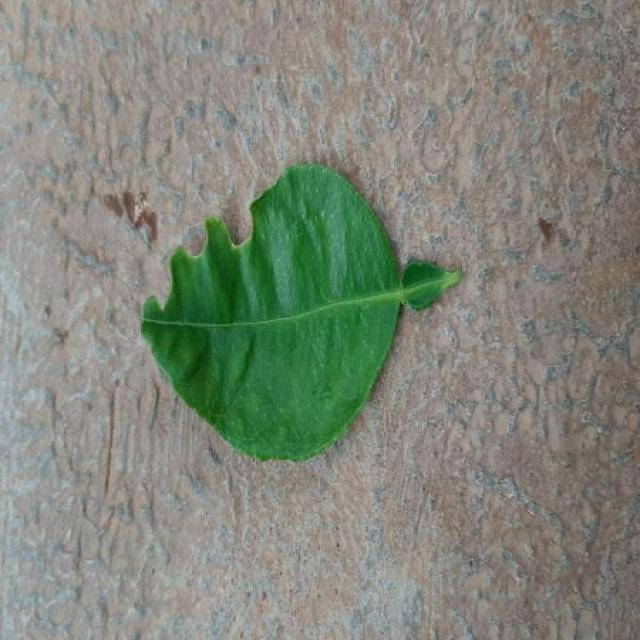lemon: (142, 165, 460, 460)
